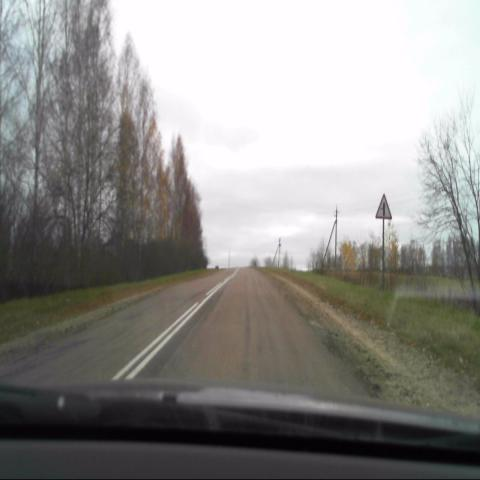2_3_3: (376, 192, 392, 221)
